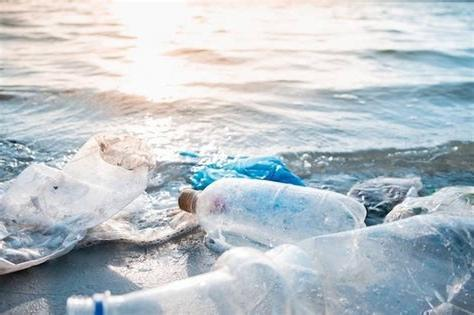Plastic: (61, 210, 474, 315), (177, 176, 365, 258)
Trash: (0, 129, 154, 278)
